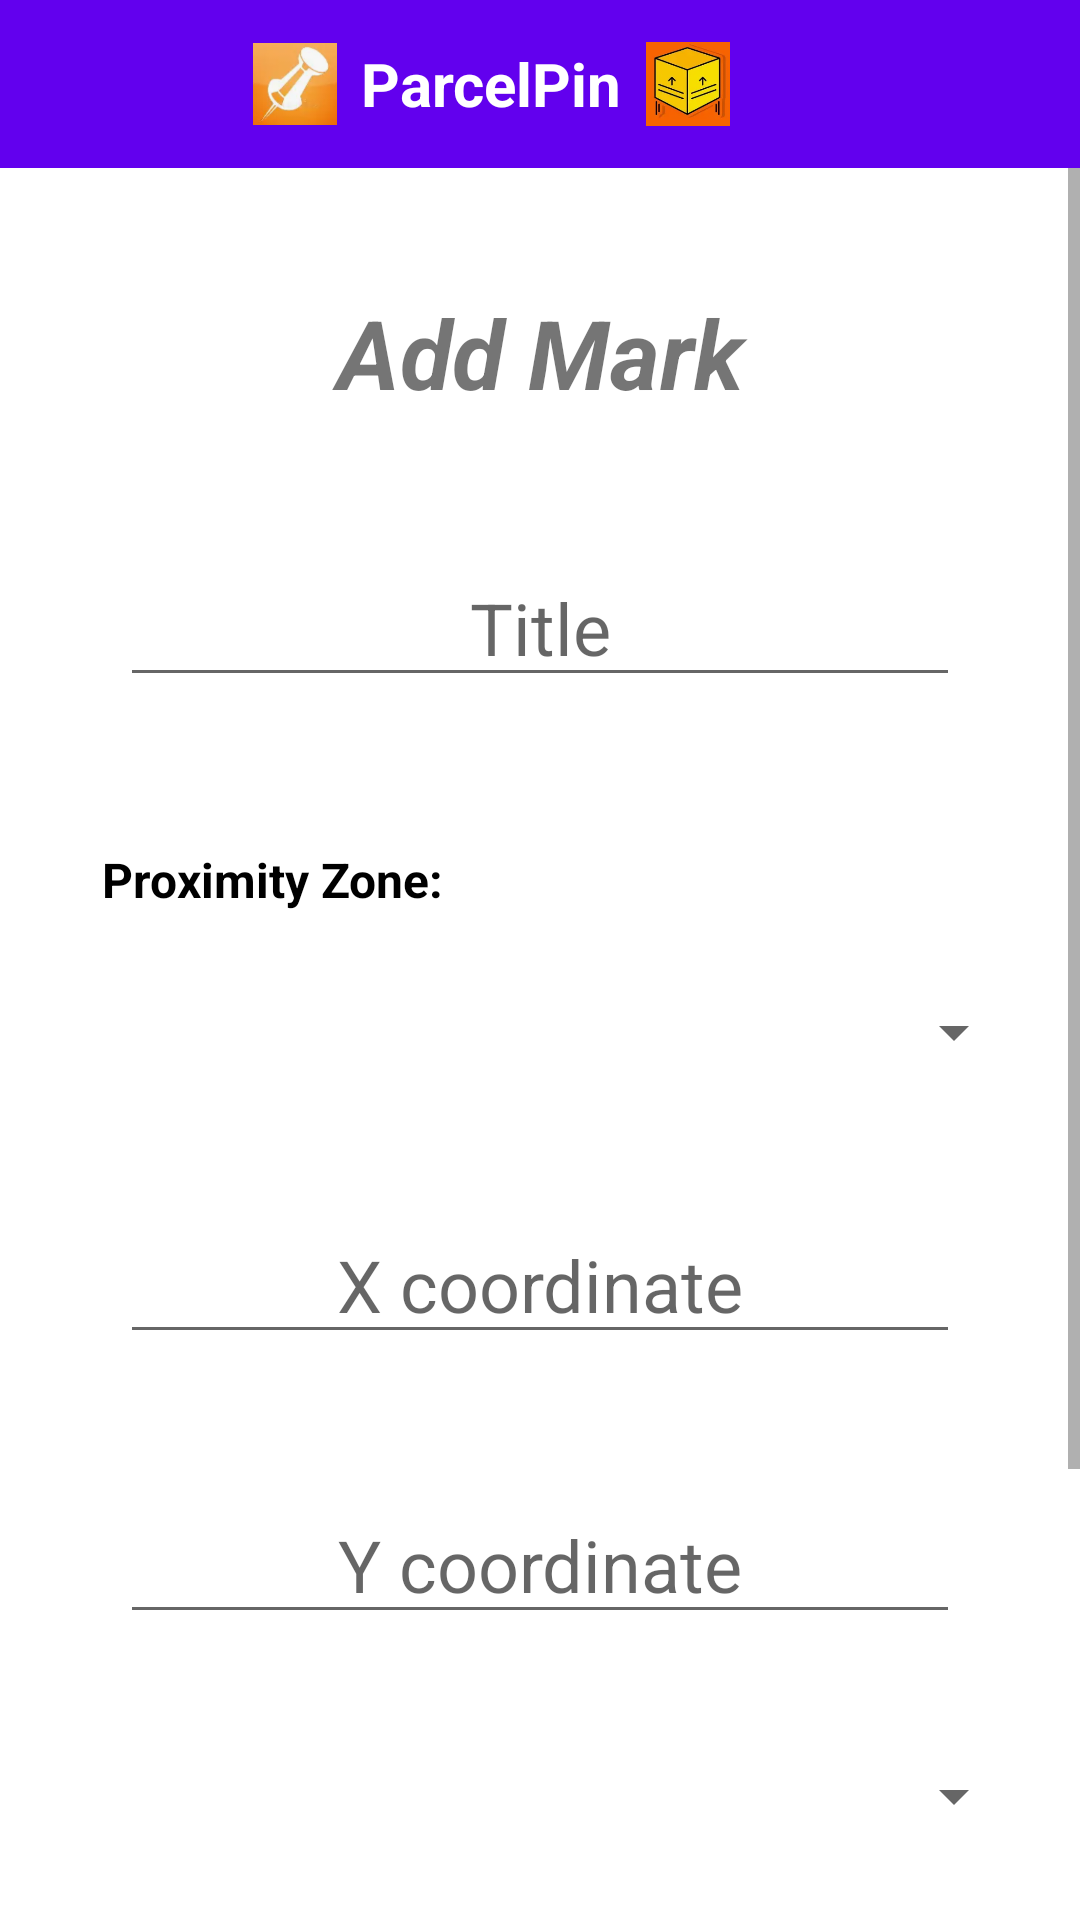

Screen size 1080×1920. Icon name, then its center in pixels as (x,y):
cardboard box: (688,84)
pushpin: (295,84)
